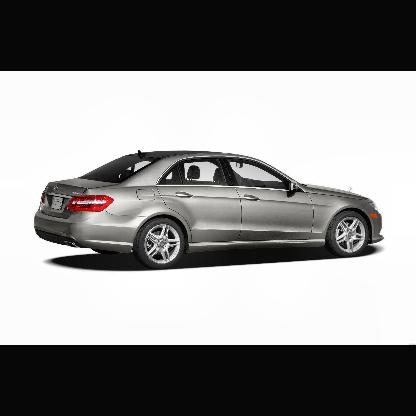Mercedes-Benz E-Class Sedan 2012: (33, 149, 387, 279)
